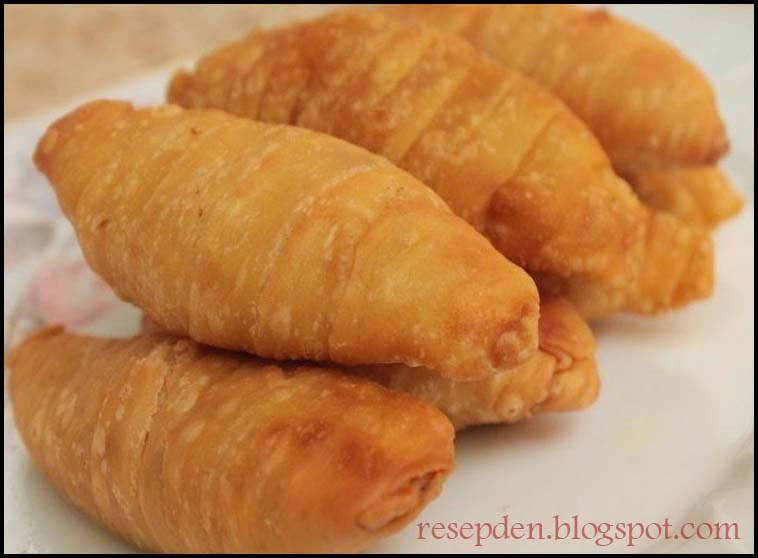pisang_molen: (33, 98, 539, 374), (7, 327, 456, 548)
